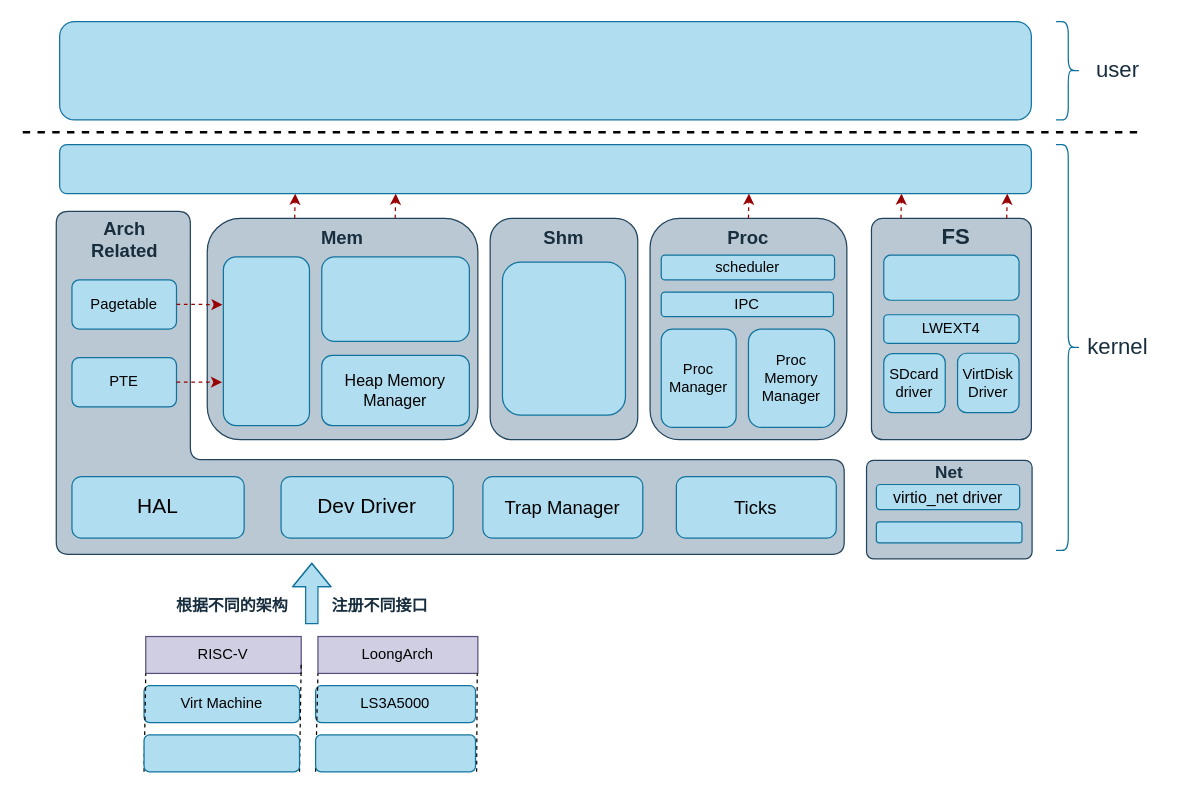
Some shapes in this 1181 by 795 pixel diagram are drawn without their labels. The centre of each missing label's shape, as x and y in pixels:
LS2k1000: pixel 395 753
ONPS stack: pixel 948 532
Physical Memory Manager: pixel 395 298
Shared Memory Manager: pixel 563 338
syscall: pixel 544 168
User Space: pixel 544 70
vfs: pixel 951 277
Virtual Memory Manager: pixel 265 341
Vision Five 2: pixel 221 753
